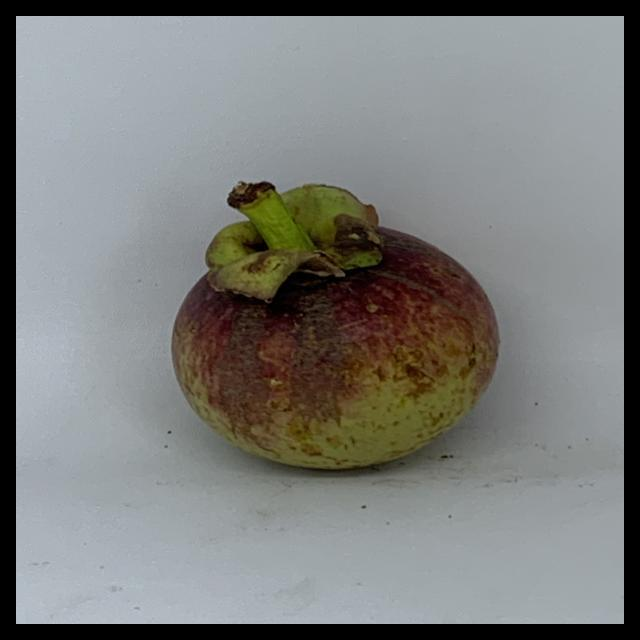mangosteen: (162, 173, 517, 468)
